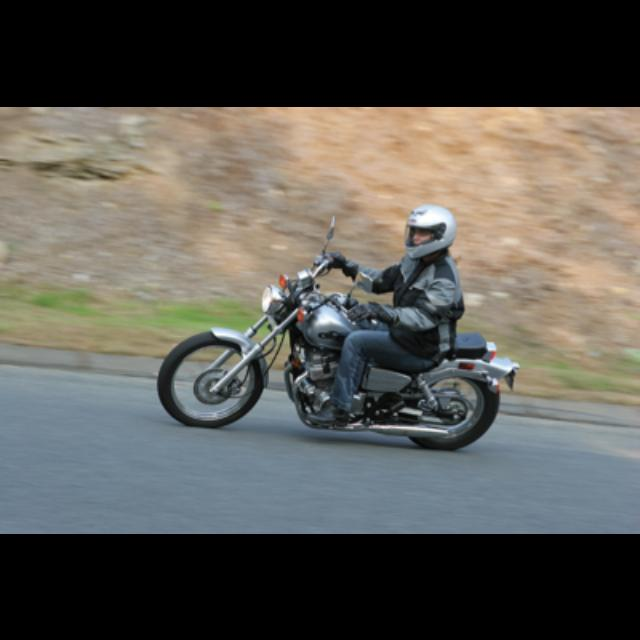With Helmet: (403, 202, 462, 254)
